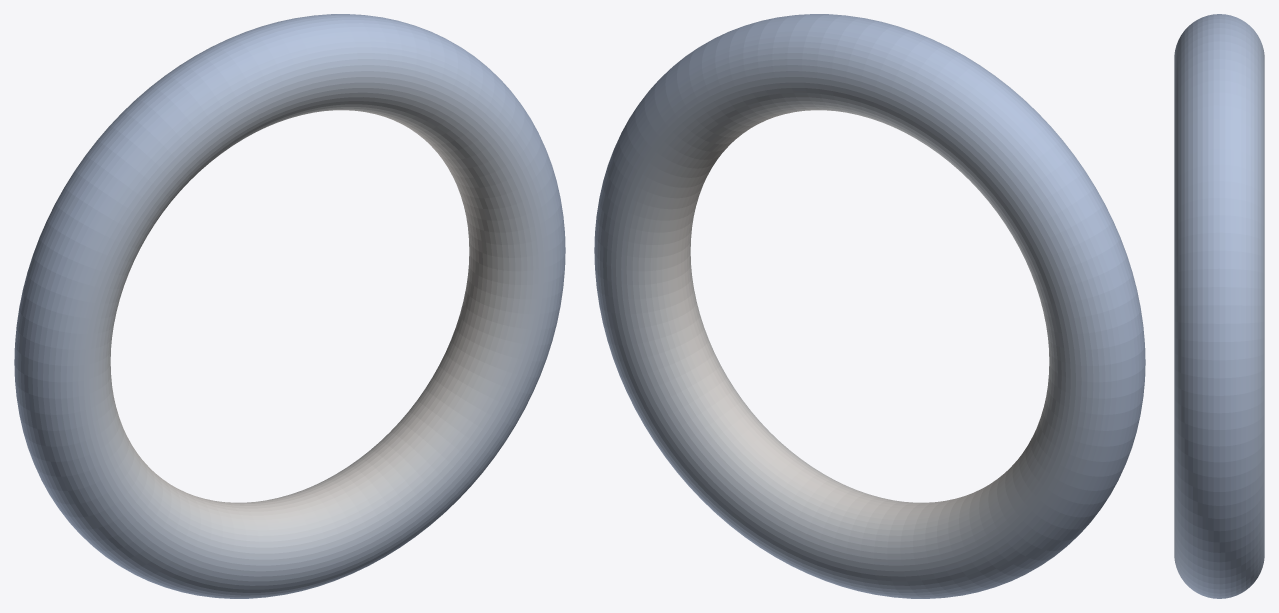
3 views of the same model, side by side, from view 1: azimuth 30°, elevation 25°; view 2: azimuth 150°, elevation 25°; view 3: azimuth 270°, elevation 25° (orthographic). The views are drawn at different scales.
Visible parts, largest first — view 1: world; view 2: world; view 3: world.
Part boxes in pixels (x1,y1,x2,y2): world: [14, 14, 565, 598]; world: [594, 14, 1145, 598]; world: [1174, 14, 1264, 598].
Bounding box in the file's own units: 28.4 × 28.4 × 4.39.
